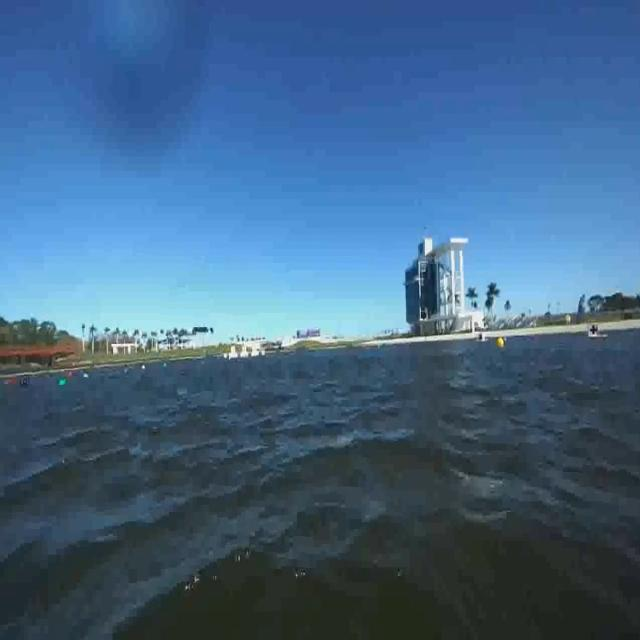green-buoy: (59, 379, 68, 388)
yellow-buoy: (496, 337, 505, 351)
